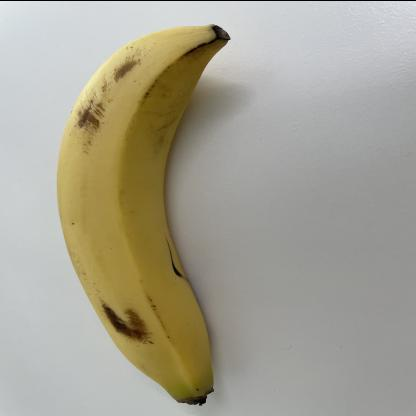banana: (48, 19, 238, 408)
